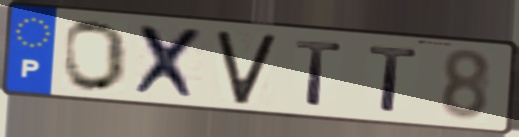8: (438, 47, 495, 125)
O: (62, 18, 130, 95)
T: (365, 43, 422, 115), (293, 37, 346, 110)
V: (213, 30, 281, 107)
X: (131, 22, 210, 103)
